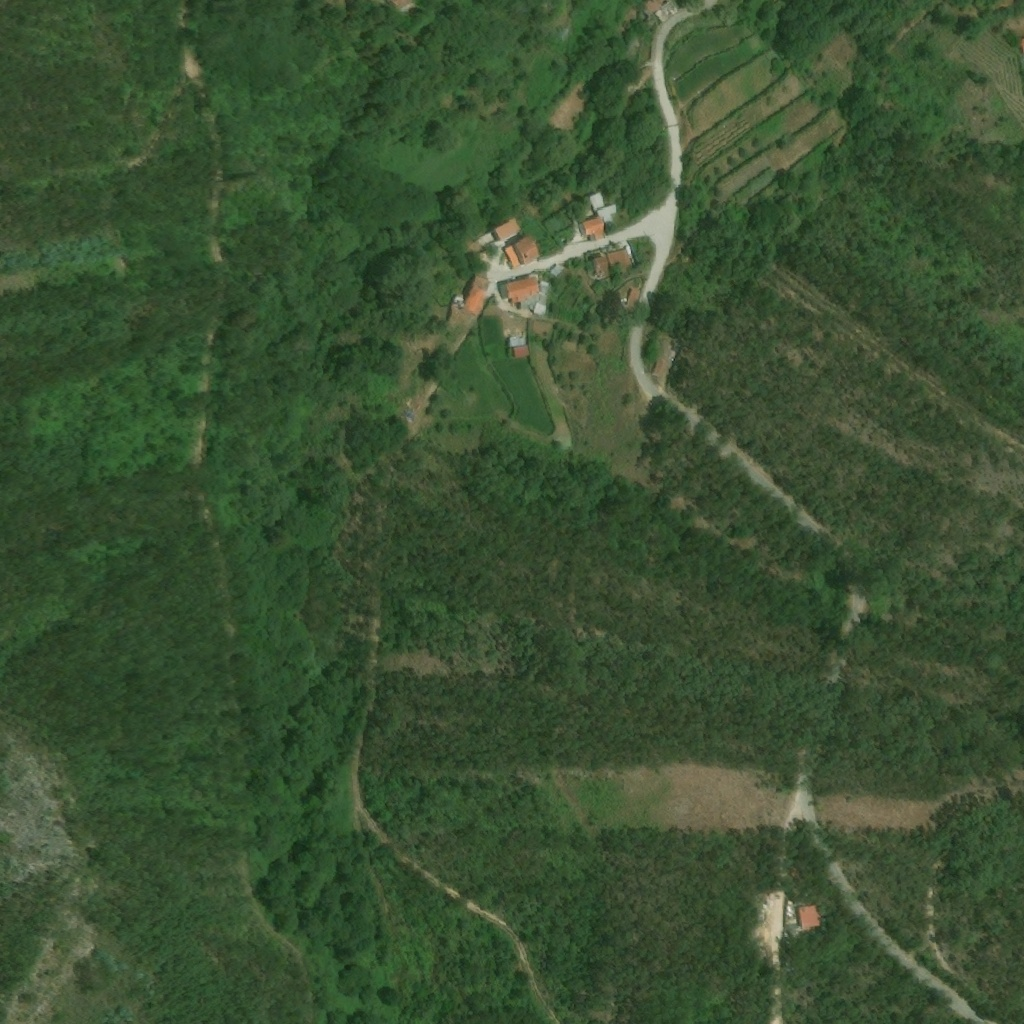0 no-damage: (495, 275, 547, 316), (578, 193, 616, 241), (501, 235, 540, 271), (458, 274, 489, 318), (593, 249, 628, 279), (491, 217, 521, 242), (795, 905, 821, 931), (505, 337, 530, 359), (625, 288, 640, 309), (652, 359, 667, 379), (549, 265, 562, 278)
4 un-classified: (654, 2, 678, 24), (640, 0, 665, 14), (388, 0, 417, 11), (1016, 38, 1023, 55)
